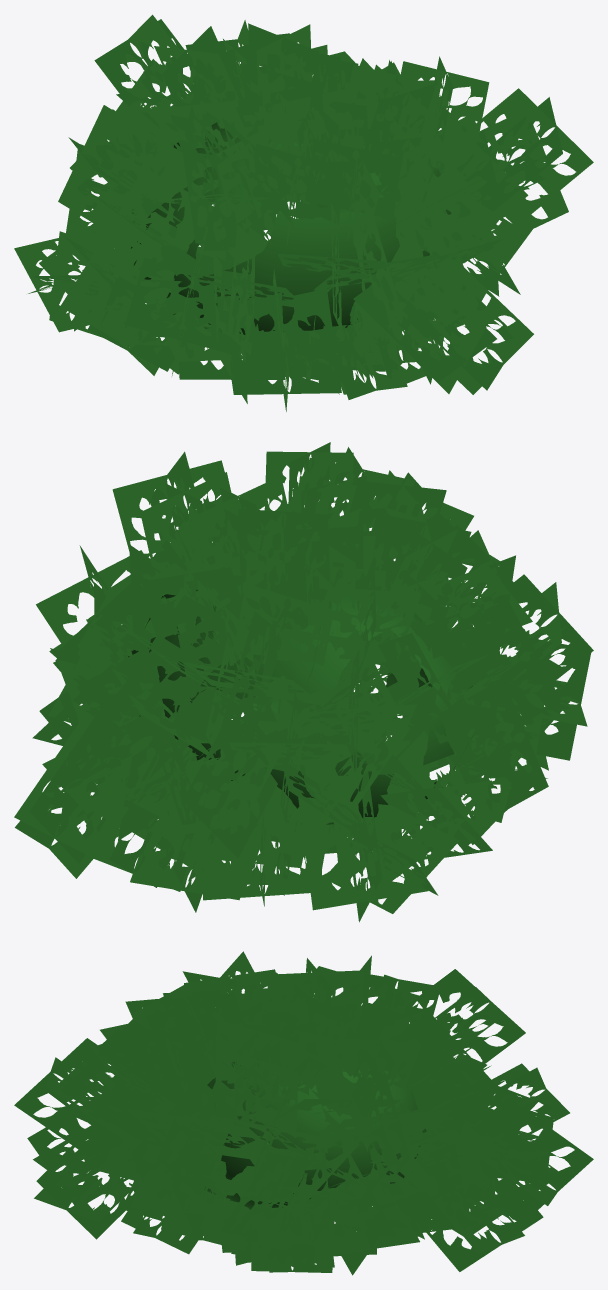
The model's file is SM_Bush.fbx.
3 renders of one model, top to bottom at view 1: azimuth 30°, elevation 25°; view 2: azimuth 150°, elevation 25°; view 3: azimuth 270°, elevation 25°, orthographic. The views are drawn at different scales.
Parts seen in each view (by area): view 1: SM_Bush; view 2: SM_Bush; view 3: SM_Bush.
Boxes of the visible parts, left/top/right/bottom form: SM_Bush: left=14, top=14, right=593, bottom=411; SM_Bush: left=14, top=442, right=593, bottom=922; SM_Bush: left=14, top=951, right=593, bottom=1275.
Size of the model in its own units: 173 by 112 by 210.
